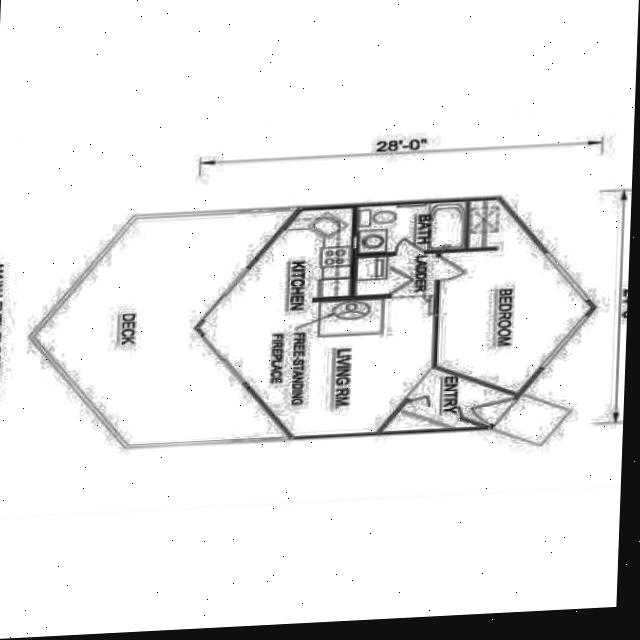room: (186, 168, 550, 527), (374, 188, 603, 417), (357, 202, 466, 254)
